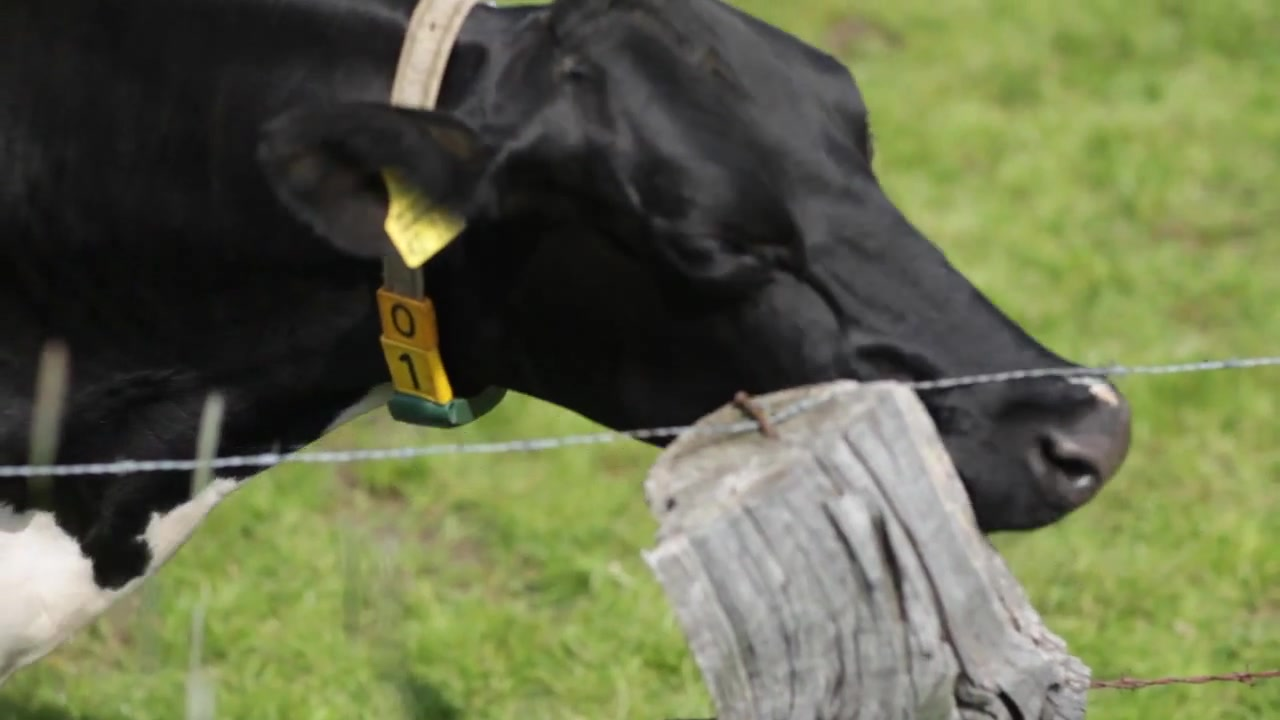cow: (1, 1, 1131, 720)
